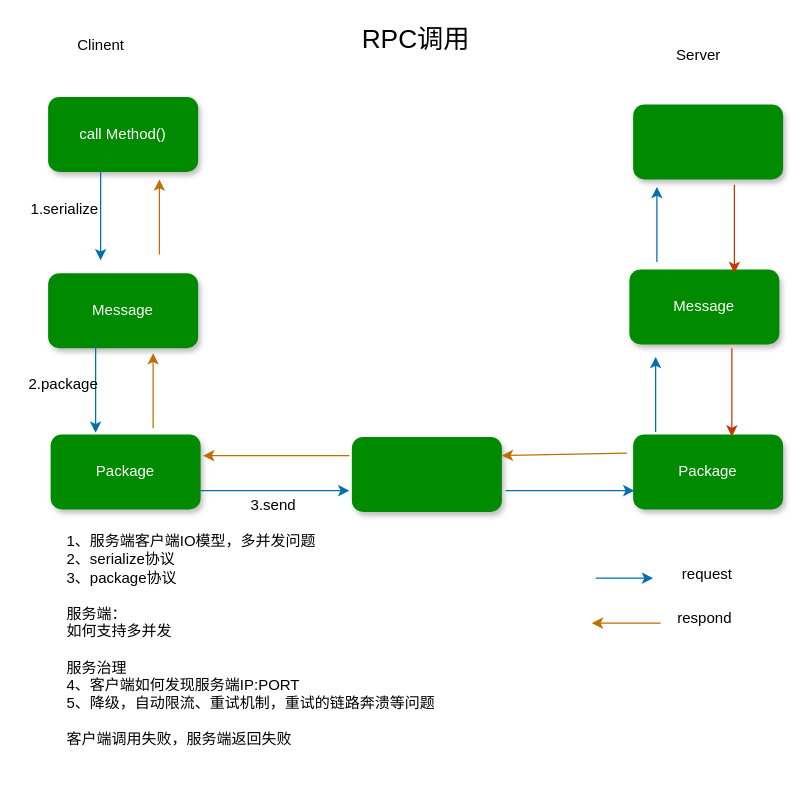
Image size: 811x788. Some labels were removed from this diagram. Each missing label, with the centre of its shape:
网络: the point at 427,475
调用: the point at 709,143
